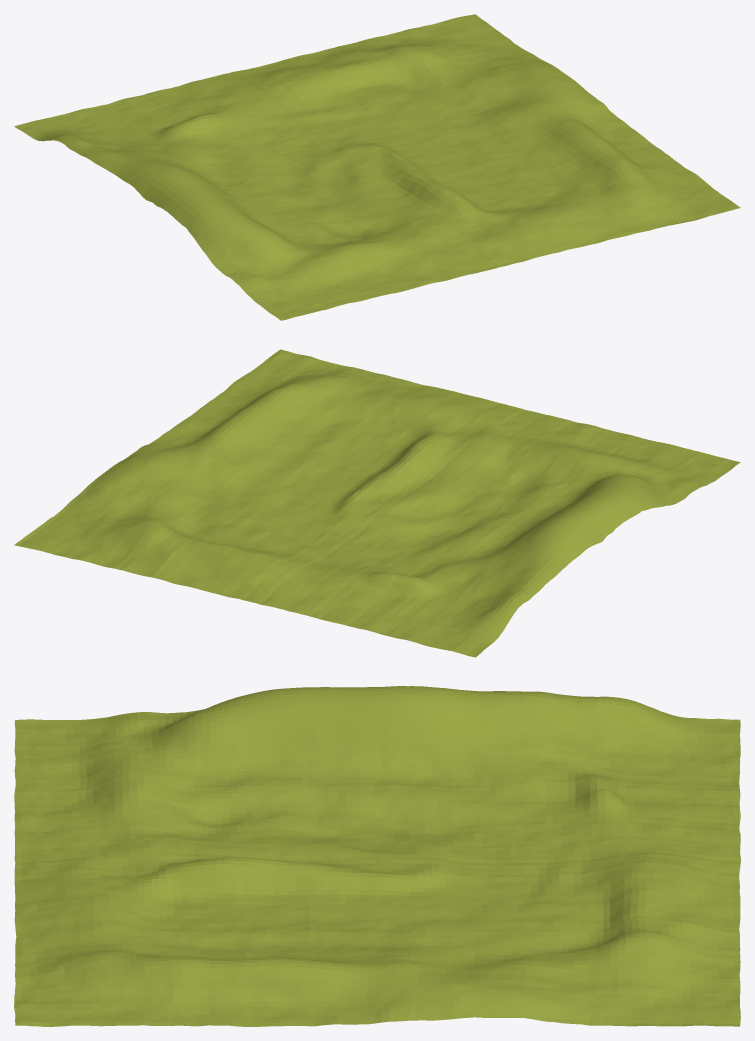
The model's file is grass.obj.
The picture shows the model from 3 angles, top to bottom: view 1: azimuth 30°, elevation 25°; view 2: azimuth 150°, elevation 25°; view 3: azimuth 270°, elevation 25°; orthographic projection. The views are drawn at different scales.
Visible parts, largest first — view 1: Plane.003_Plane.004; view 2: Plane.003_Plane.004; view 3: Plane.003_Plane.004.
Part boxes in pixels (x1,y1,x2,y2): Plane.003_Plane.004: (14,14,740,320); Plane.003_Plane.004: (14,349,740,657); Plane.003_Plane.004: (14,686,740,1026).
Bounding box in the file's own units: 326 × 27.88 × 326.
